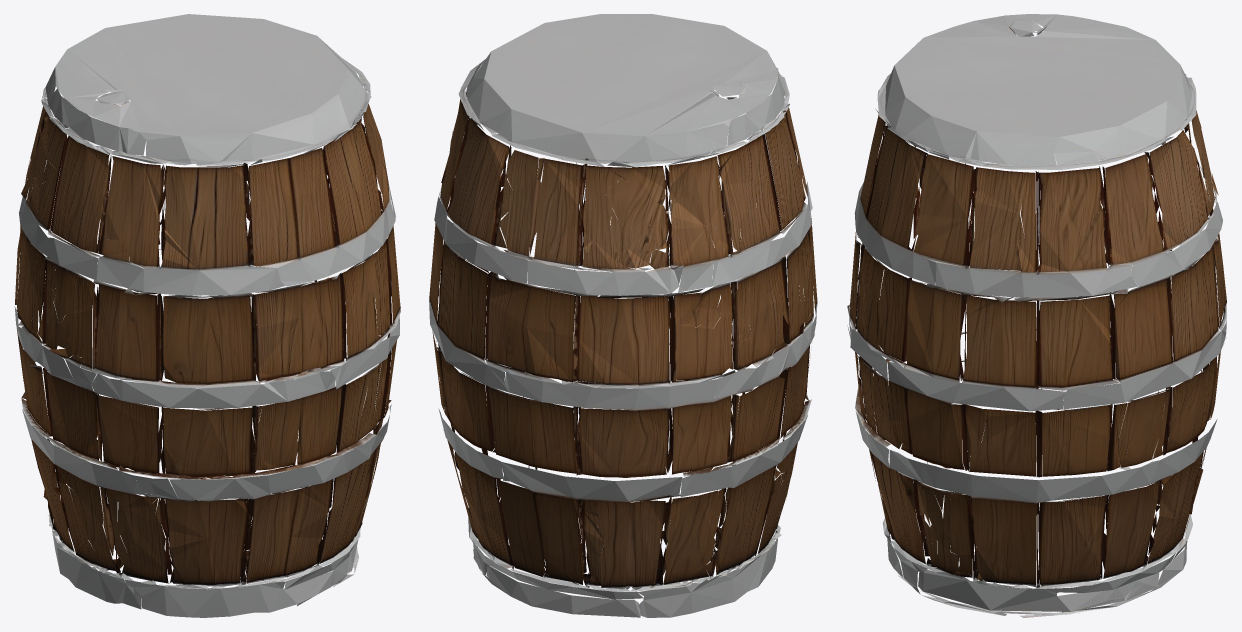
Rendered from barrel.glb.
The picture shows the model from 3 angles, left to right: view 1: azimuth 30°, elevation 25°; view 2: azimuth 150°, elevation 25°; view 3: azimuth 270°, elevation 25°; orthographic projection.
Visible parts, largest first — view 1: textured_mesh.obj; view 2: textured_mesh.obj; view 3: textured_mesh.obj.
Part boxes in pixels (x1,y1,x2,y2): textured_mesh.obj: [14, 14, 400, 617]; textured_mesh.obj: [429, 14, 817, 617]; textured_mesh.obj: [847, 14, 1226, 617].
Bounding box in the file's own units: 1.46 × 1.99 × 1.42.
1 material, 1 textured.
